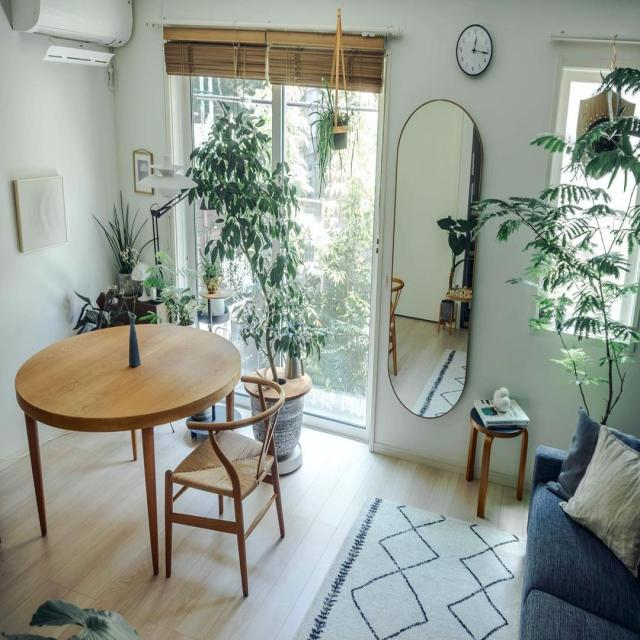vintage chair: (163, 374, 284, 601)
vintage desk: (9, 316, 245, 584)
vintage sofa: (515, 404, 640, 640)
